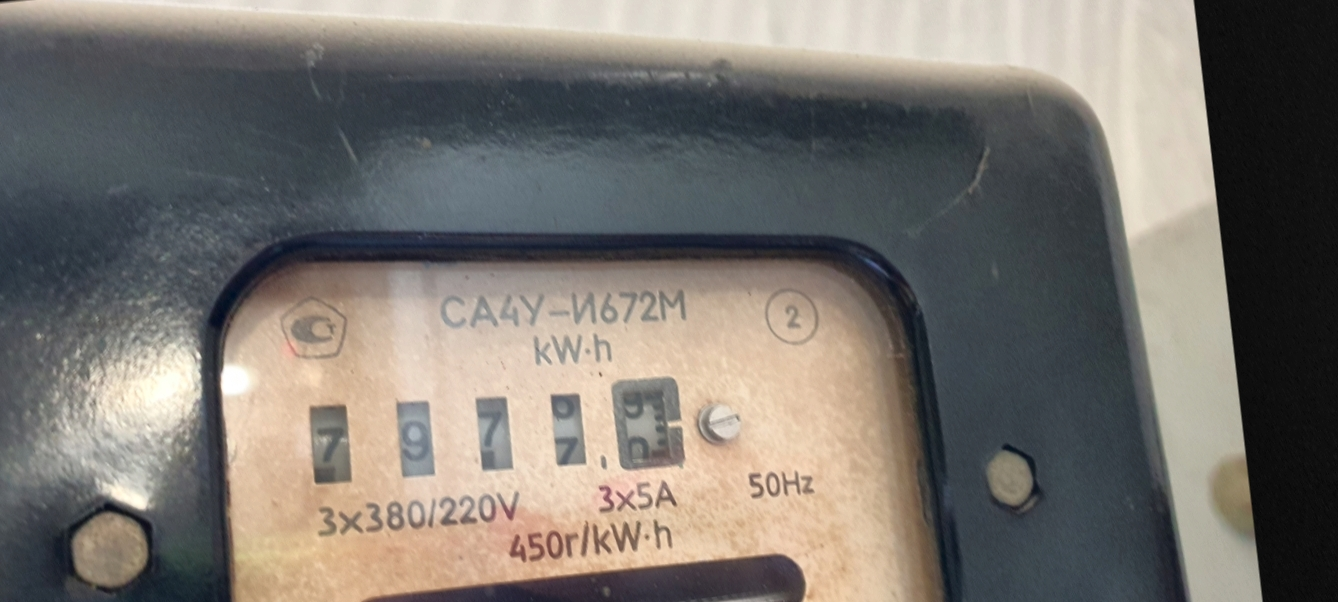0: (623, 431, 649, 463)
7: (309, 421, 348, 469), (549, 426, 583, 471), (474, 406, 507, 450)
9: (395, 415, 431, 466), (616, 388, 650, 423)
screen: (290, 351, 703, 522)
